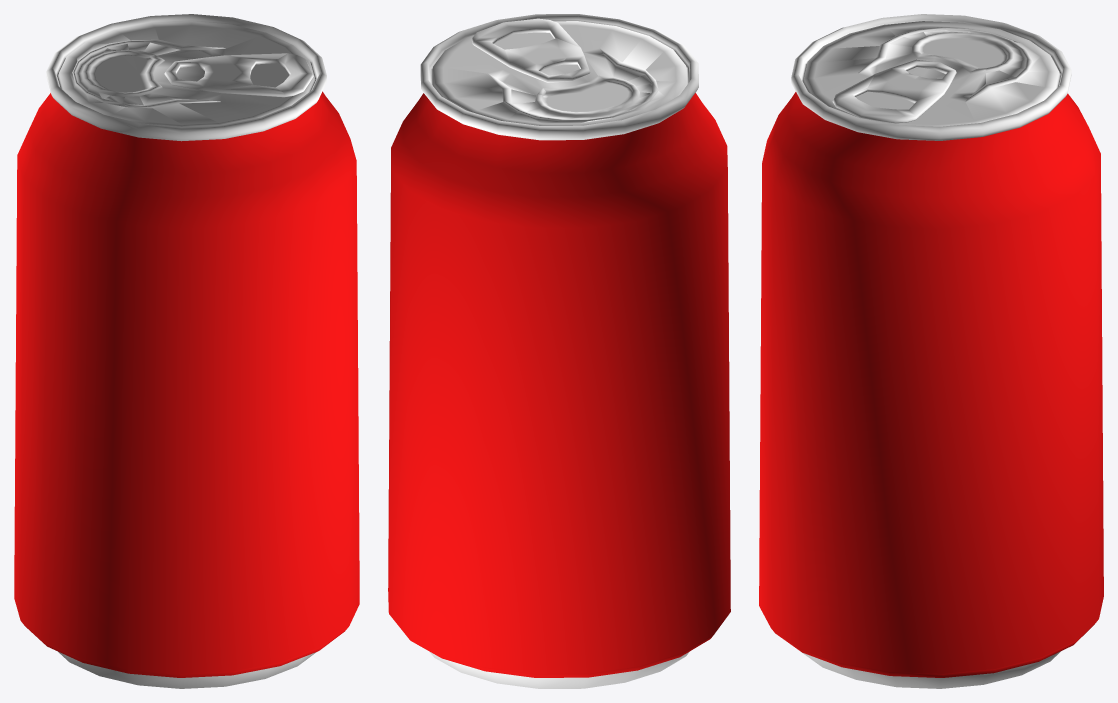
File: Red Soda Can.fbx
3 views of the same model, side by side, from view 1: azimuth 30°, elevation 25°; view 2: azimuth 150°, elevation 25°; view 3: azimuth 270°, elevation 25° (orthographic).
Visible parts, largest first — view 1: Node 0; view 2: Node 0; view 3: Node 0.
Boxes of the visible parts, box(x1,y1,x2,y2) form: Node 0: box(14, 14, 359, 688); Node 0: box(388, 14, 730, 688); Node 0: box(759, 14, 1103, 688).
Size of the model in its own units: 0.0644 by 0.1151 by 0.0644.
